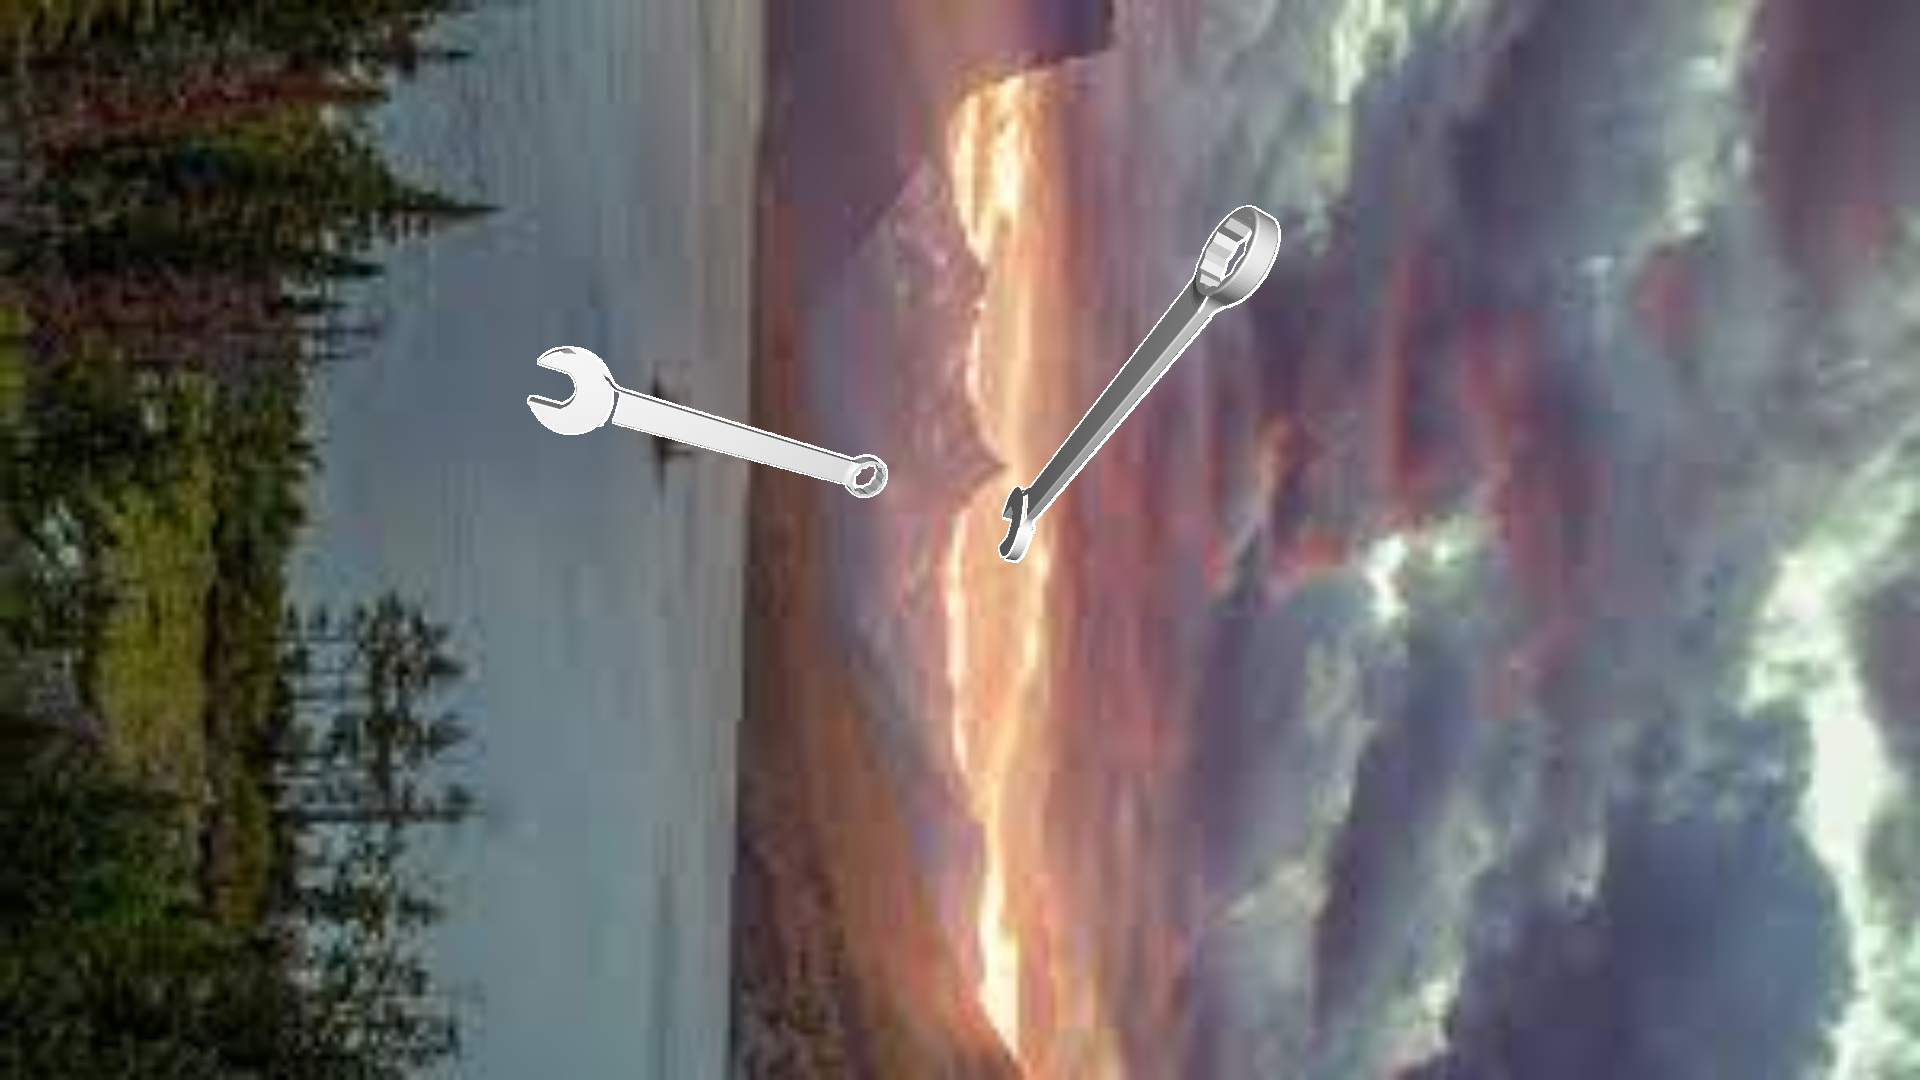Mixed Key: (20, 398, 497, 802), (344, 791, 839, 1079), (998, 204, 1280, 562), (527, 345, 887, 497), (430, 0, 513, 291), (1015, 936, 1166, 1079)
